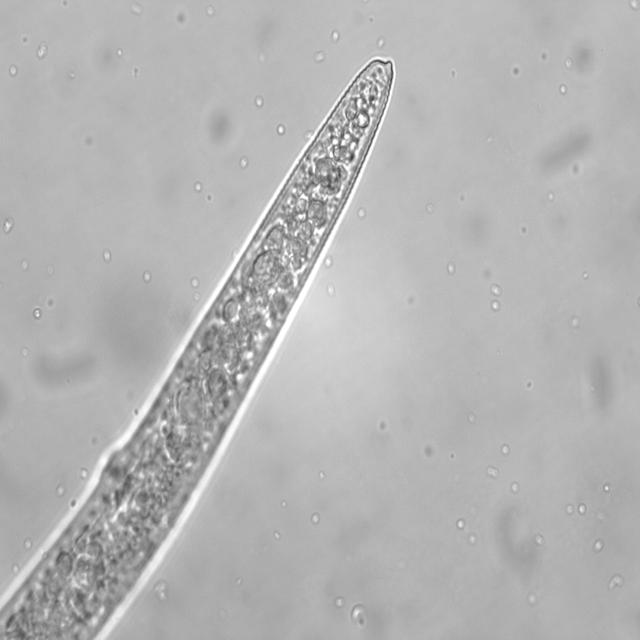Pratylenchus: (108, 51, 400, 464)
